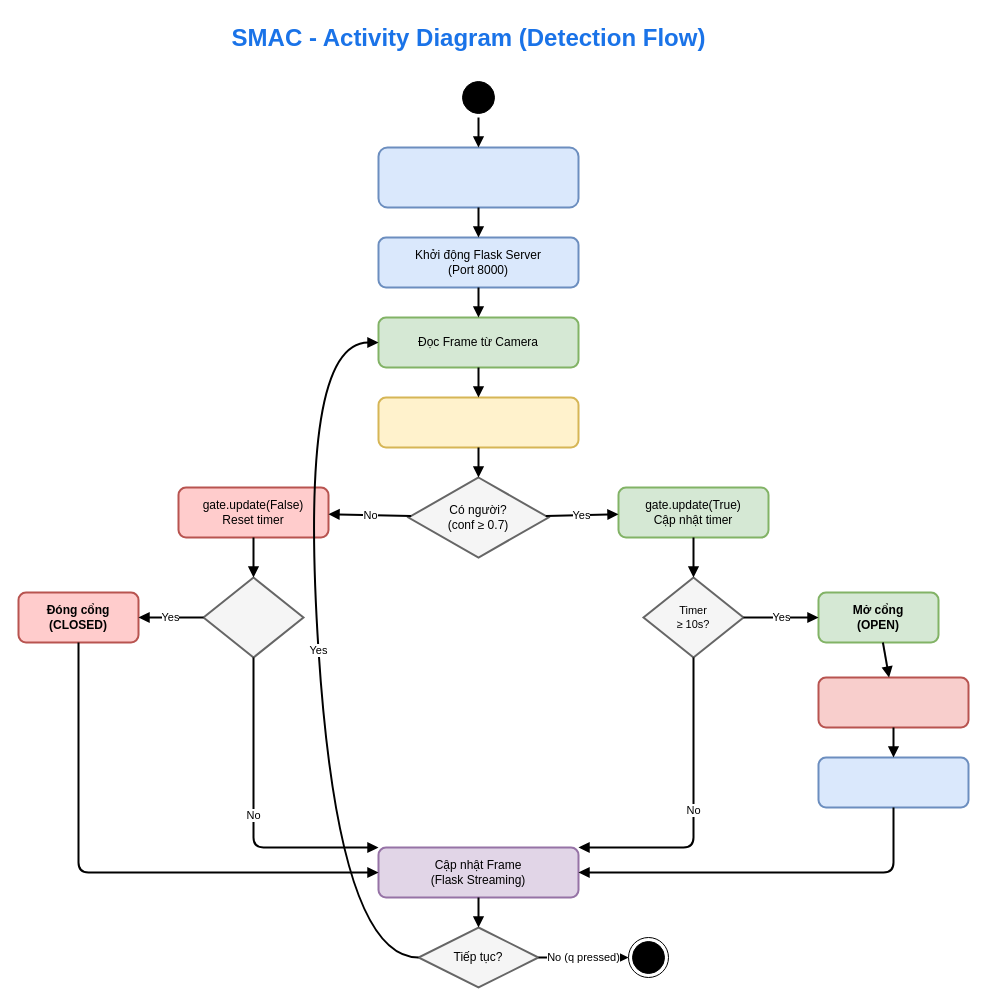
Image size: 986x1005. Some labels were removed from this diagram. The shapes that lost their labels are listed below. From the top down, each one's box as (x1, y1, x2, y2) in pixels, then its label:
(377, 146, 579, 208): Khởi tạo hệ thống (Load YOLO, Flask, Camera)
(377, 396, 579, 448): Xử lý Frame với YOLO11 (Person Detection)
(202, 576, 304, 658): Timer ≥ 0.5s?
(817, 676, 969, 728): Gửi Telegram Alert (Nếu chưa gửi)
(817, 756, 969, 808): Lưu vào Database
